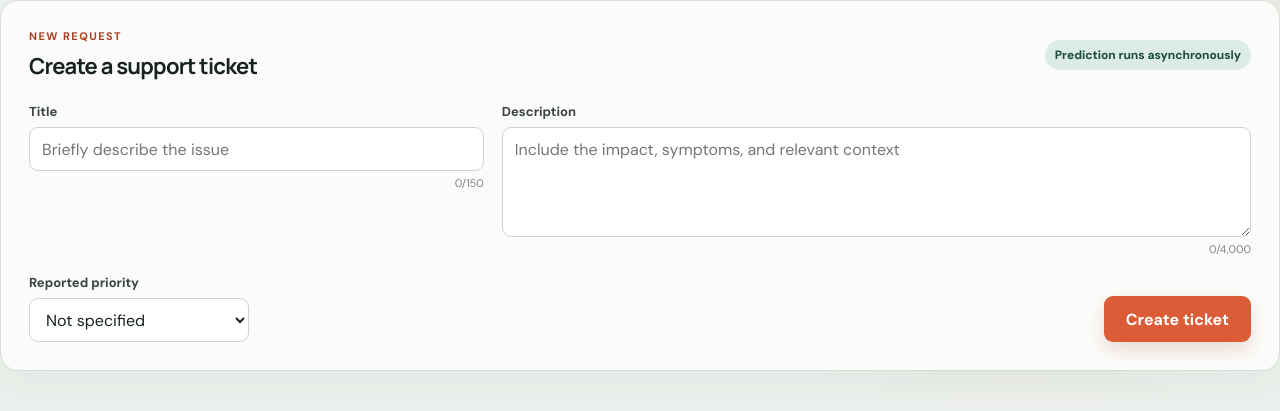
shows client-side validation errors for an incomplete ticket
Click the button "Create ticket".
click(1177, 319)  # box [1104,296,1251,342]
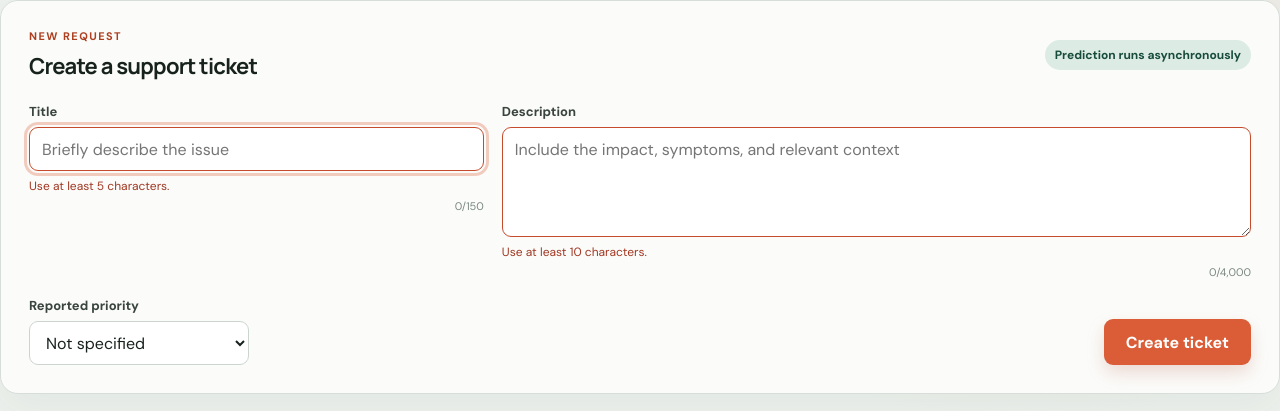
expect the text "Use at least 5 characters." is shown: met, box [29,178,170,194]
expect the text "Use at least 10 characters." is shown: met, box [502,244,647,260]
